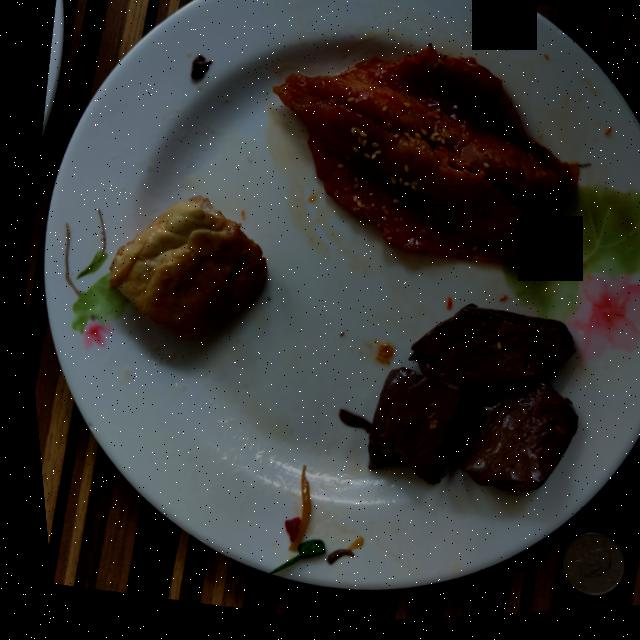Kabayaki sea bream fillet: (272, 50, 574, 270)
coin: (551, 539, 613, 603)
pig blood curd: (331, 372, 569, 500), (403, 310, 568, 393)
